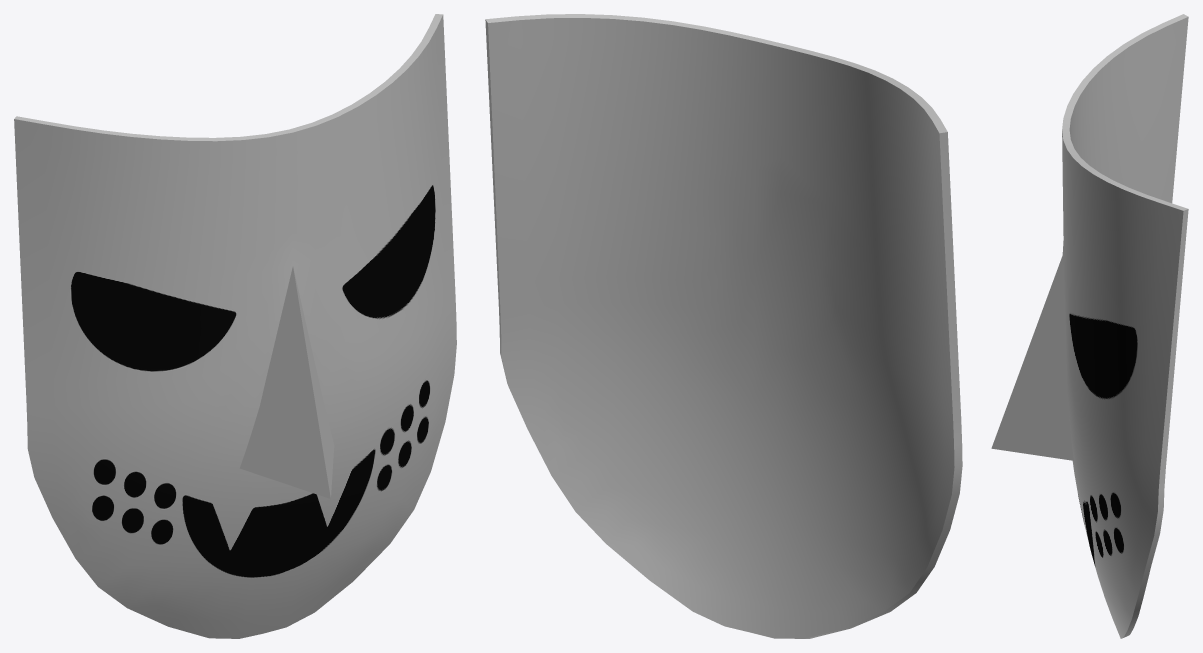
3 renders of one model, left to right at view 1: azimuth 30°, elevation 25°; view 2: azimuth 150°, elevation 25°; view 3: azimuth 270°, elevation 25°, orthographic. The views are drawn at different scales.
Visible parts, largest first — view 1: Plane001, Object001_01 - Default_0, Object002_02 - Default_0; view 2: Object002_02 - Default_0; view 3: Plane001, Object002_02 - Default_0, Object001_01 - Default_0.
Part boxes in pixels (left/top/right/bottom): Plane001: left=14, top=15, right=456, bottom=638; Object001_01 - Default_0: left=239, top=266, right=334, bottom=498; Object002_02 - Default_0: left=14, top=14, right=442, bottom=141; Object002_02 - Default_0: left=485, top=14, right=962, bottom=638; Plane001: left=1062, top=131, right=1183, bottom=638; Object002_02 - Default_0: left=1062, top=14, right=1188, bottom=637; Object001_01 - Default_0: left=991, top=256, right=1073, bottom=460.
Bounding box in the file's own units: 6.19 × 7.46 × 2.62.
3 materials, 1 textured.
